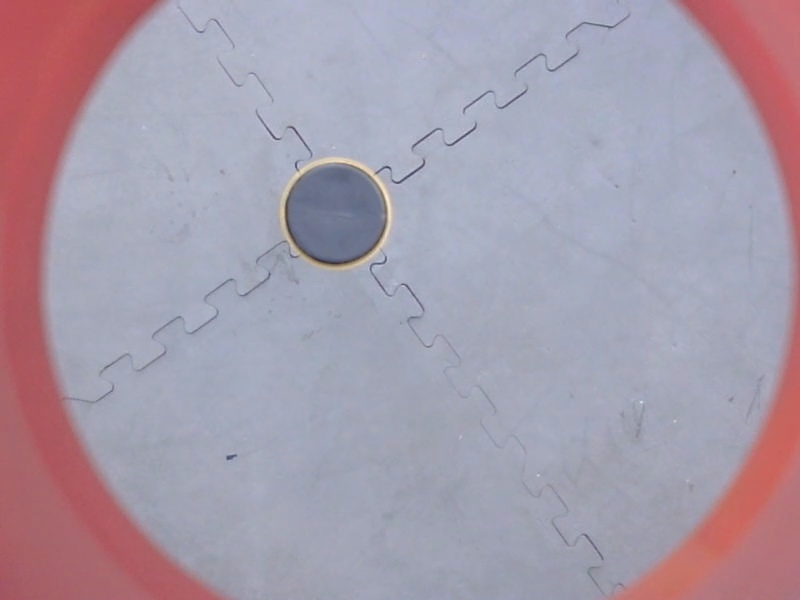tip: (273, 151, 398, 276)
